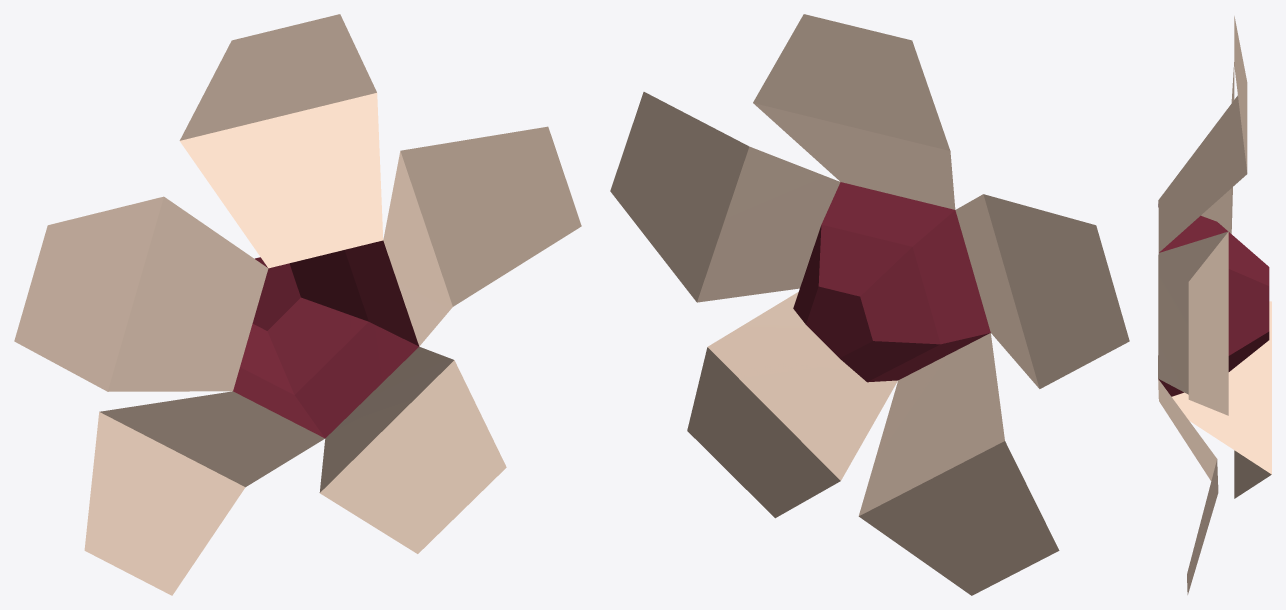
The model's file is Flower.fbx.
The picture shows the model from 3 angles, left to right: view 1: azimuth 30°, elevation 25°; view 2: azimuth 150°, elevation 25°; view 3: azimuth 270°, elevation 25°; orthographic projection. The views are drawn at different scales.
Visible parts, largest first — view 1: Flower2.041; view 2: Flower2.041; view 3: Flower2.041.
Boxes of the visible parts, x1,y1,x2,y2 form: Flower2.041: (14,14,581,595); Flower2.041: (610,14,1129,595); Flower2.041: (1158,16,1271,594).
Size of the model in its own units: 55.77 by 10.67 by 53.04.
